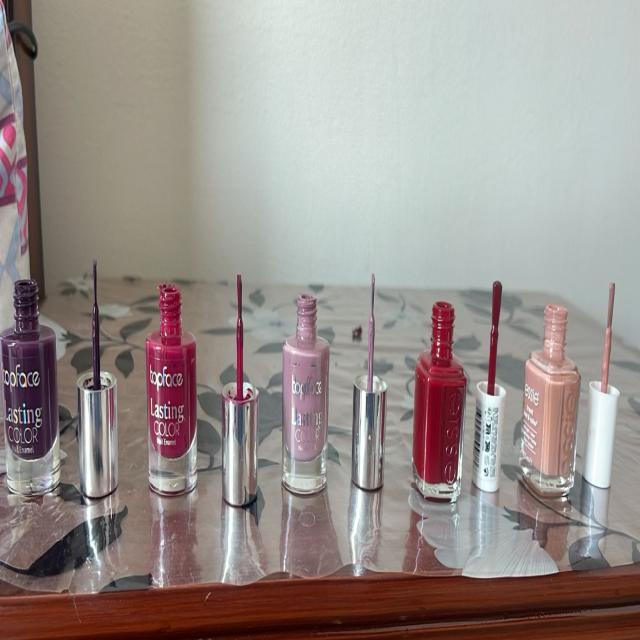nail polish: (131, 255, 207, 495), (516, 280, 588, 509), (213, 250, 272, 528), (0, 252, 62, 514), (273, 282, 336, 529), (408, 280, 474, 511), (71, 257, 126, 518), (464, 262, 518, 500), (580, 266, 632, 498), (344, 266, 398, 489), (472, 259, 516, 360), (347, 260, 387, 363), (76, 248, 120, 340), (216, 248, 256, 335), (594, 273, 628, 360)
